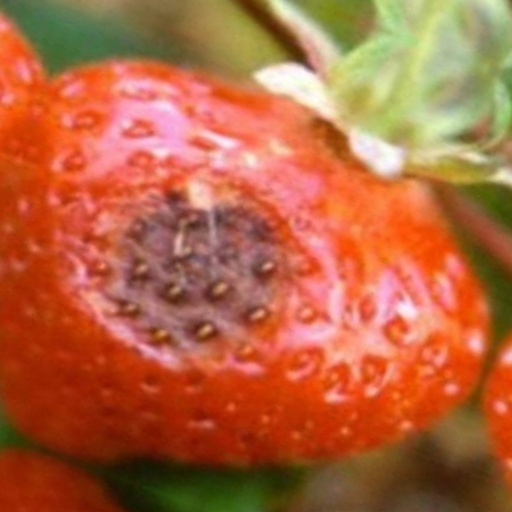Anthracnose Fruit Rot: (77, 202, 307, 380)
